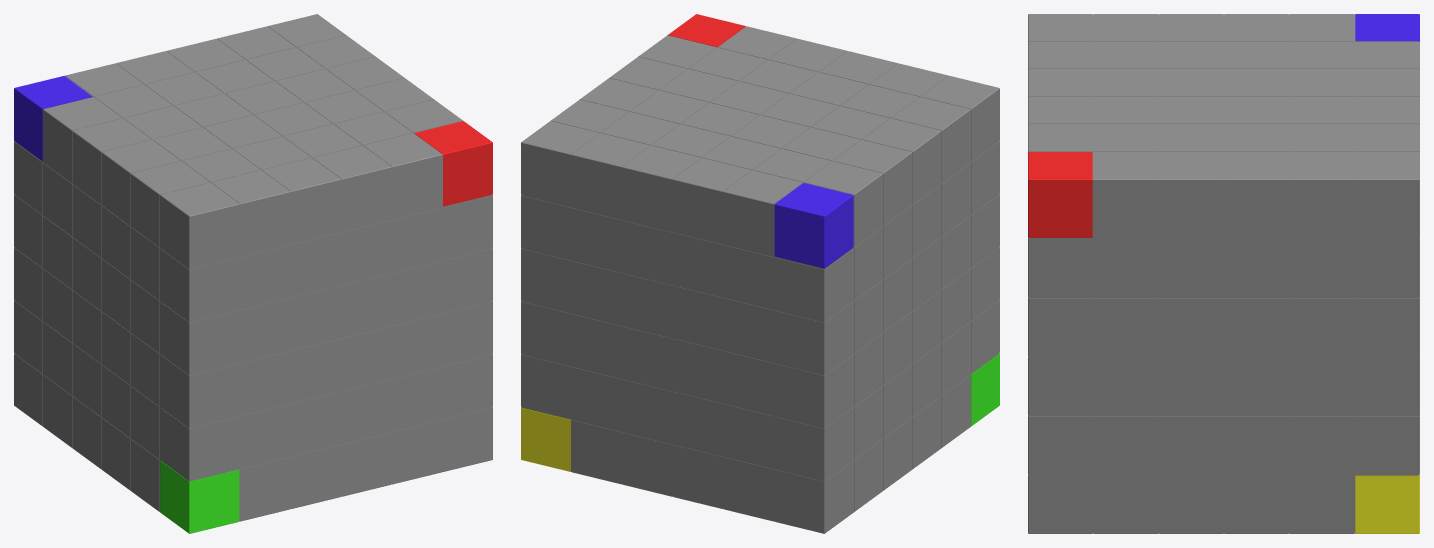
File: SM_Layout.FBX
3 renders of one model, left to right at view 1: azimuth 30°, elevation 25°; view 2: azimuth 150°, elevation 25°; view 3: azimuth 270°, elevation 25°, orthographic. The views are drawn at different scales.
Visible parts, largest first — view 1: SM_Layout; view 2: SM_Layout; view 3: SM_Layout.
Part boxes in pixels (x1,y1,x2,y2): SM_Layout: [14, 14, 492, 533]; SM_Layout: [521, 14, 999, 533]; SM_Layout: [1028, 14, 1419, 533].
Size of the model in its own units: 606 by 606 by 606.
